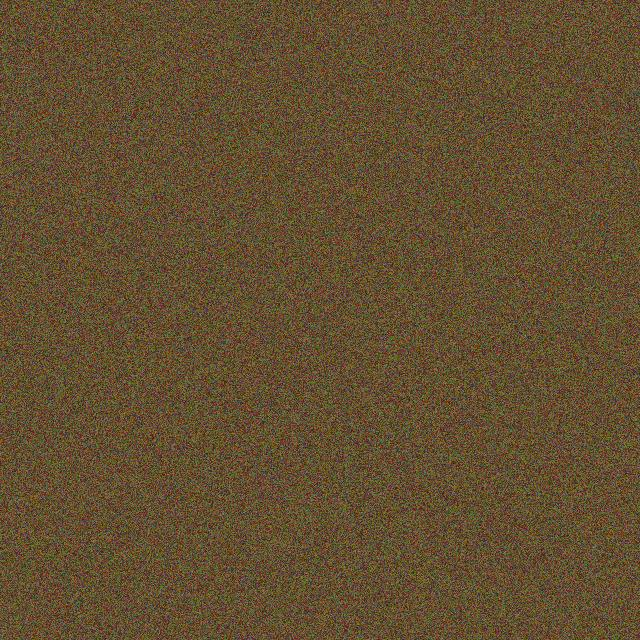unknown_man_made_object: (223, 111, 314, 177)
